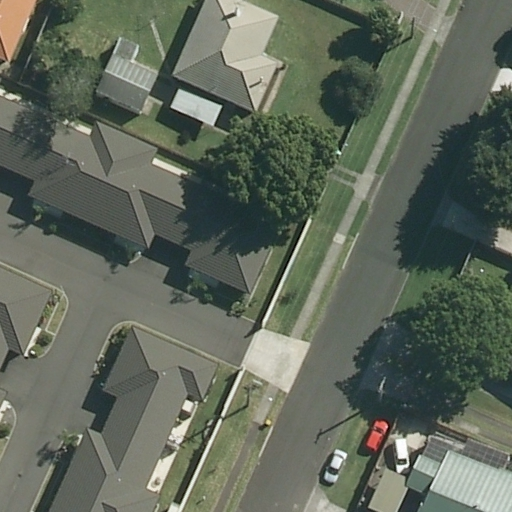DT: (401, 9, 426, 43), (237, 380, 262, 411)
